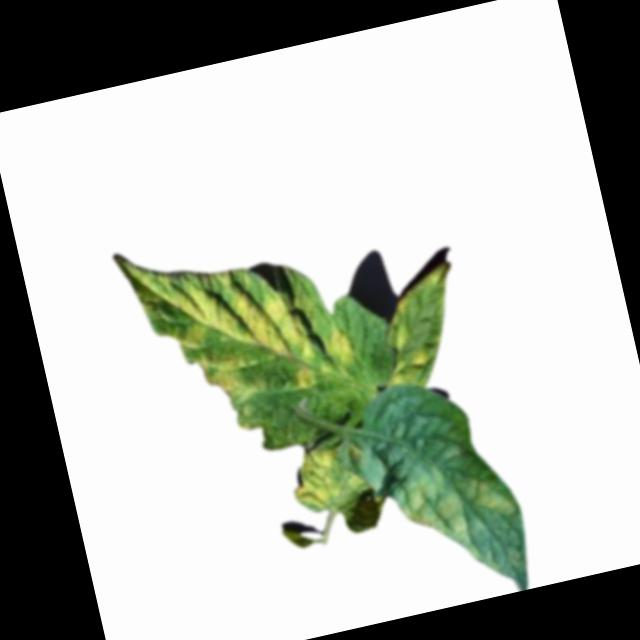Leaf_Mold: (117, 211, 359, 425), (394, 450, 525, 558), (287, 438, 372, 522), (380, 345, 432, 389)
